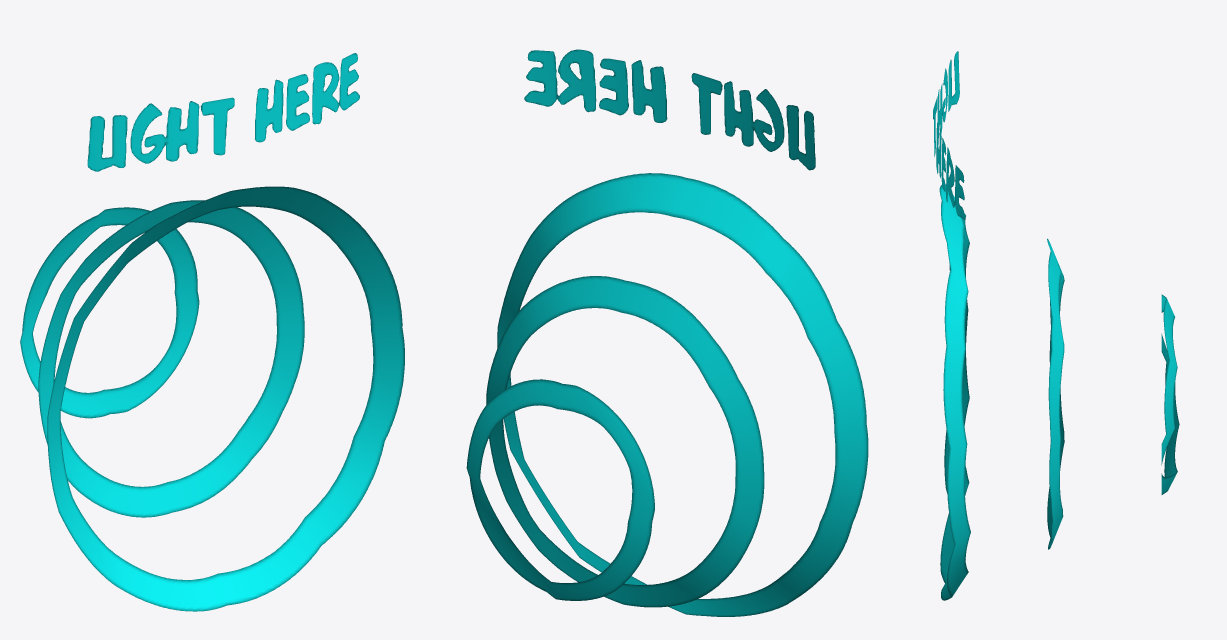
The model's file is target.FBX.
3 renders of one model, left to right at view 1: azimuth 30°, elevation 25°; view 2: azimuth 150°, elevation 25°; view 3: azimuth 270°, elevation 25°, orthographic. The views are drawn at different scales.
Parts seen in each view (by area): view 1: lighthere; view 2: lighthere; view 3: lighthere.
Part boxes in pixels (x1,y1,x2,y2): lighthere: [20, 53, 404, 611]; lighthere: [466, 49, 868, 616]; lighthere: [933, 51, 1179, 600].
Bounding box in the file's own units: 97.13 × 130 × 63.72.
